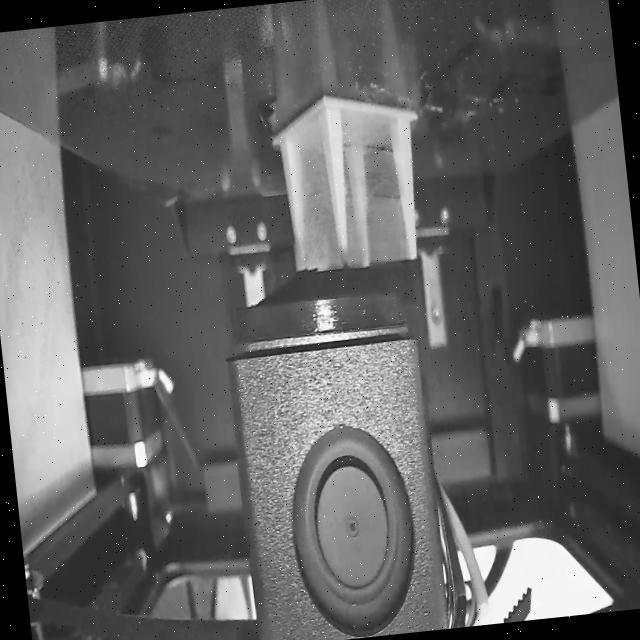stringing: (336, 100, 410, 266), (284, 111, 338, 274)
